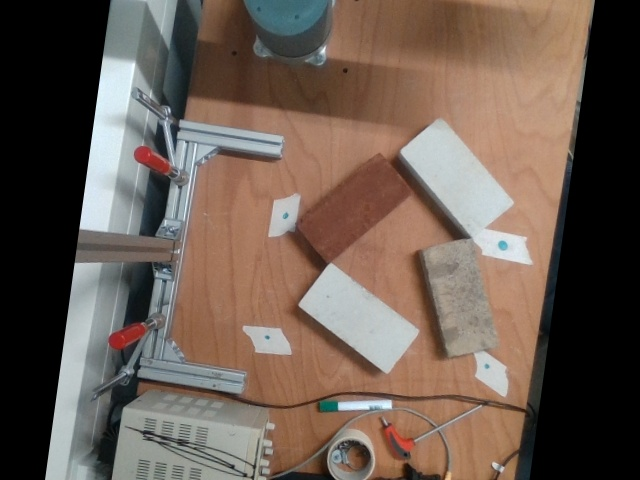brick: (399, 115, 516, 238), (297, 260, 422, 374), (294, 151, 416, 266), (420, 235, 503, 361)
